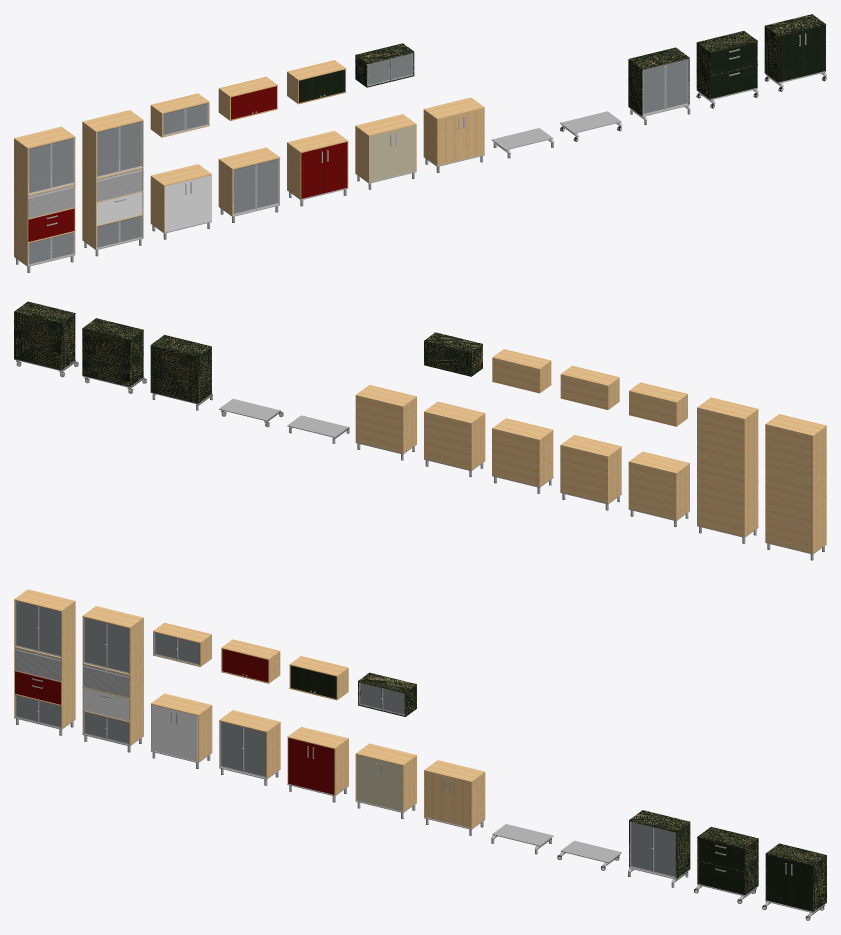
3 views of the same model, one above another, from view 1: azimuth 30°, elevation 25°; view 2: azimuth 150°, elevation 25°; view 3: azimuth 330°, elevation 25° (orthographic).
Parts seen in each view (by area): view 1: IKEA_Effektiv_AddOnLow (×14), CabDoor1_1 (×4), CabDoor1_2 (×4), IKEA_Effektiv_AddOnLow_4 (×2), IKEA_Effektiv_AddOnLow_2 (×3), IKEA_Effektiv_Base (×2), group_34, group_41, group_50, group_106, group_43, group_45 (+14 smaller); view 2: IKEA_Effektiv_AddOnLow (×14), IKEA_Effektiv_AddOnLow_4 (×2), IKEA_Effektiv_AddOnLow_1 (×6), IKEA_Effektiv_AddOnLow_2 (×3), IKEA_Effektiv_AddOnLow_5 (×2), IKEA_Effektiv_AddOnLow_3, IKEA_Effektiv_Base (×2); view 3: IKEA_Effektiv_AddOnLow (×14), CabDoor1_2 (×4), CabDoor1_1 (×4), IKEA_Effektiv_AddOnLow_4 (×2), IKEA_Effektiv_AddOnLow_2 (×3), IKEA_Effektiv_Base (×2), IKEA_Effektiv_AddOnLow_5, group_106, group_40, group_36, group_45, group_41 (+10 smaller).
Boxes of the visible parts, bbox=[...] form: IKEA_Effektiv_AddOnLow (×14): bbox=[14, 97, 484, 232]; CabDoor1_1 (×4): bbox=[29, 65, 664, 213]; CabDoor1_2 (×4): bbox=[52, 60, 687, 207]; IKEA_Effektiv_AddOnLow_4 (×2): bbox=[628, 14, 826, 115]; IKEA_Effektiv_AddOnLow_2 (×3): bbox=[150, 60, 346, 136]; IKEA_Effektiv_Base (×2): bbox=[491, 111, 621, 150]; group_34: bbox=[164, 181, 187, 231]; group_41: bbox=[324, 142, 347, 193]; group_50: bbox=[437, 114, 460, 165]; group_106: bbox=[779, 31, 802, 82]; group_43: bbox=[369, 131, 392, 181]; group_45: bbox=[392, 125, 415, 176]; IKEA_Effektiv_AddOnLow (×14): bbox=[355, 385, 826, 520]; IKEA_Effektiv_AddOnLow_4 (×2): bbox=[14, 301, 211, 403]; IKEA_Effektiv_AddOnLow_1 (×6): bbox=[697, 454, 826, 553]; IKEA_Effektiv_AddOnLow_2 (×3): bbox=[492, 349, 687, 425]; IKEA_Effektiv_AddOnLow_5 (×2): bbox=[82, 318, 143, 386]; IKEA_Effektiv_AddOnLow_3: bbox=[424, 332, 482, 375]; IKEA_Effektiv_Base (×2): bbox=[219, 399, 348, 437]; IKEA_Effektiv_AddOnLow (×14): bbox=[14, 589, 485, 828]; CabDoor1_2 (×4): bbox=[39, 607, 674, 876]; CabDoor1_1 (×4): bbox=[16, 601, 651, 870]; IKEA_Effektiv_AddOnLow_4 (×2): bbox=[629, 810, 826, 911]; IKEA_Effektiv_AddOnLow_2 (×3): bbox=[153, 622, 348, 698]; IKEA_Effektiv_Base (×2): bbox=[492, 824, 621, 862]; IKEA_Effektiv_AddOnLow_5: bbox=[697, 827, 758, 871]; group_106: bbox=[766, 855, 789, 905]; group_40: bbox=[288, 738, 311, 789]; group_36: bbox=[174, 710, 197, 761]; group_45: bbox=[379, 760, 402, 811]; group_41: bbox=[311, 743, 334, 794].
Bounding box in the file's own units: 562 × 20.13 × 84.29.
